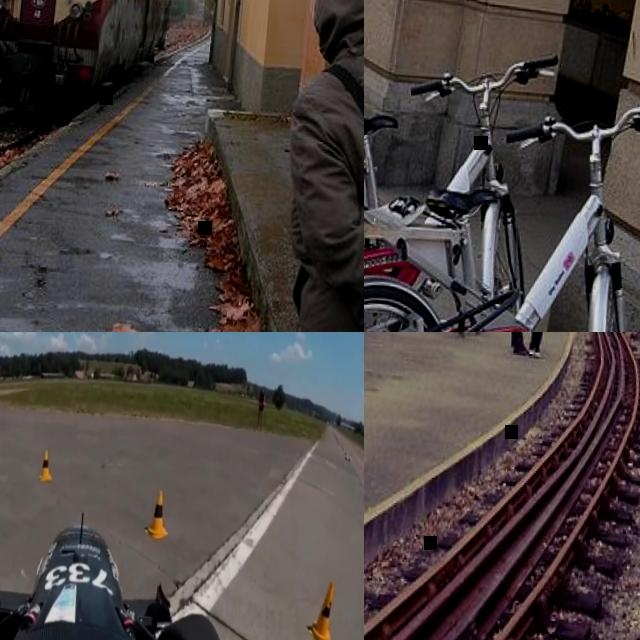NO-Safety Vest: (289, 36, 364, 332), (259, 396, 265, 409)
Person: (273, 0, 364, 332), (501, 332, 555, 358), (524, 332, 554, 358), (254, 389, 266, 427)
Safety Cone: (304, 570, 339, 640), (140, 487, 172, 542), (39, 450, 55, 486)
vehicle: (0, 497, 247, 640)
